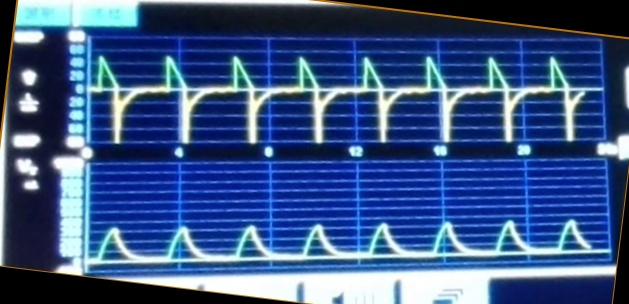Normal Flow: (91, 42, 591, 144)
Normal Volume: (88, 204, 599, 266)
